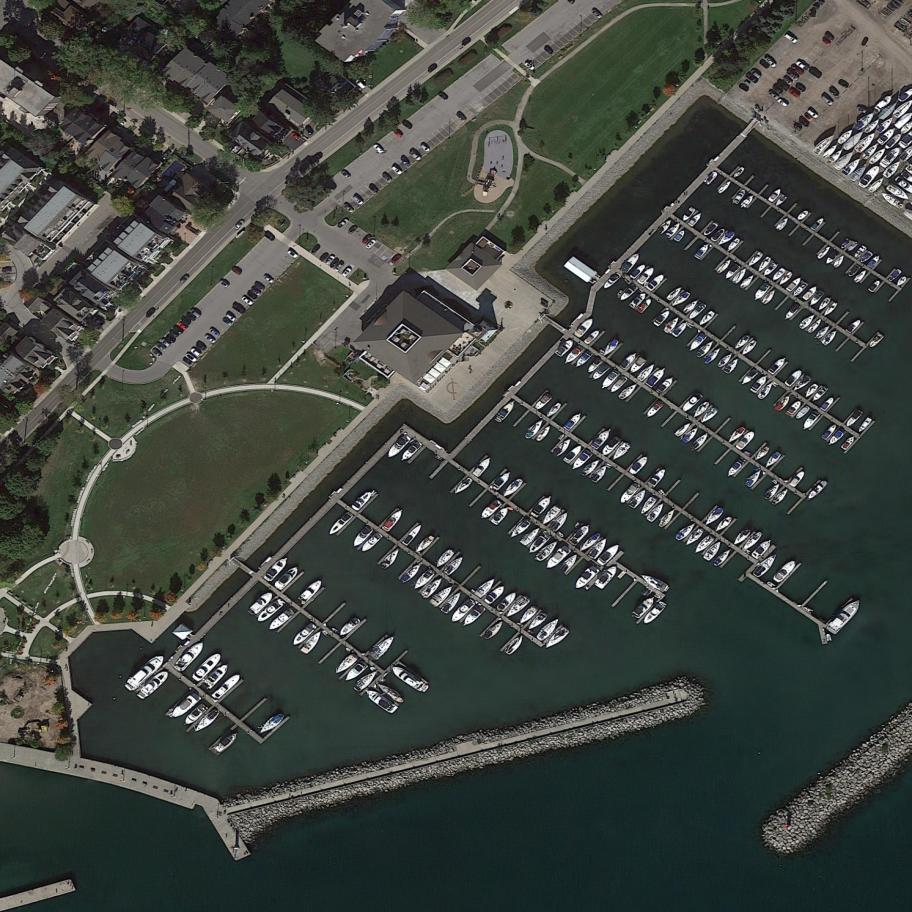ship: (121, 652, 167, 696), (131, 665, 175, 707), (823, 594, 865, 638), (169, 638, 207, 677), (390, 663, 431, 697), (189, 649, 224, 685), (169, 689, 204, 721), (366, 631, 398, 664), (211, 671, 244, 702), (364, 687, 399, 716), (271, 561, 302, 593), (254, 596, 287, 625), (447, 595, 478, 625), (255, 709, 286, 739), (295, 575, 325, 606), (571, 563, 601, 594), (542, 542, 572, 573), (267, 605, 299, 634), (326, 509, 355, 539), (533, 614, 562, 644), (262, 554, 291, 584), (193, 706, 223, 735), (245, 588, 275, 617), (351, 667, 380, 696), (386, 432, 414, 462), (375, 680, 408, 705), (639, 569, 672, 594), (505, 592, 533, 621), (211, 729, 240, 757), (332, 650, 361, 678), (289, 620, 318, 648), (202, 662, 230, 691), (641, 599, 669, 628), (751, 551, 779, 580), (459, 602, 487, 630), (182, 700, 210, 728), (335, 613, 363, 641), (595, 540, 622, 569), (771, 557, 798, 585), (299, 628, 325, 657), (594, 563, 620, 592), (410, 566, 437, 593), (543, 625, 570, 652), (565, 521, 592, 548), (526, 529, 553, 556), (810, 131, 837, 158), (804, 476, 830, 504), (568, 446, 594, 473), (477, 496, 504, 522), (499, 474, 526, 500), (631, 594, 657, 621), (534, 537, 560, 564), (398, 439, 424, 466), (380, 507, 405, 535), (341, 659, 369, 684), (440, 589, 465, 617), (493, 397, 518, 425), (359, 529, 384, 556), (419, 575, 444, 602), (428, 584, 455, 609), (529, 493, 554, 520), (618, 478, 642, 506), (586, 533, 610, 561), (398, 560, 424, 585), (482, 582, 508, 607), (627, 452, 652, 478), (441, 554, 467, 579), (840, 128, 865, 154), (561, 342, 586, 368), (572, 315, 597, 341), (351, 523, 375, 550), (495, 587, 519, 614), (858, 163, 882, 190), (853, 130, 877, 157), (701, 537, 724, 565), (525, 608, 550, 633), (481, 618, 506, 643), (473, 575, 498, 600), (518, 524, 543, 549), (507, 516, 532, 541), (433, 545, 457, 571), (521, 416, 545, 442), (540, 501, 564, 527), (413, 531, 437, 556), (561, 408, 585, 433), (548, 508, 572, 533), (878, 145, 902, 170), (401, 522, 424, 548), (645, 499, 668, 525), (600, 432, 623, 458), (589, 426, 612, 452), (609, 439, 633, 463), (561, 442, 585, 466), (578, 530, 602, 554), (691, 531, 715, 555), (378, 547, 401, 572), (517, 601, 540, 626), (489, 504, 512, 529), (750, 536, 773, 561), (645, 364, 668, 389), (599, 367, 622, 392), (734, 428, 757, 453), (799, 407, 822, 432), (879, 189, 905, 211), (686, 329, 708, 355), (884, 181, 911, 202), (351, 489, 374, 513), (578, 456, 602, 479), (550, 435, 573, 459), (680, 391, 704, 414), (554, 335, 577, 359), (698, 403, 721, 427), (620, 250, 642, 275), (832, 150, 855, 173), (712, 512, 735, 535), (703, 504, 726, 527), (791, 372, 814, 395), (589, 462, 611, 486), (471, 455, 493, 479), (673, 520, 697, 542), (647, 466, 669, 490), (557, 551, 579, 575), (533, 390, 555, 413), (881, 158, 903, 181), (635, 264, 657, 287), (645, 271, 667, 294), (712, 545, 734, 568), (683, 525, 705, 548), (688, 299, 710, 322), (725, 423, 747, 446), (844, 407, 866, 430), (504, 633, 525, 657), (628, 487, 649, 511), (751, 281, 772, 305), (725, 455, 746, 479), (627, 289, 649, 311), (770, 486, 792, 508), (656, 507, 677, 530), (636, 361, 657, 384), (573, 348, 594, 371), (749, 373, 770, 396), (818, 420, 839, 443), (638, 493, 658, 517), (452, 476, 474, 497), (491, 470, 512, 492), (878, 101, 899, 123), (853, 111, 875, 132), (796, 310, 817, 332), (601, 271, 623, 292), (608, 374, 630, 395), (627, 354, 648, 376), (618, 349, 639, 371), (783, 367, 804, 389), (739, 366, 760, 388), (762, 449, 783, 471), (744, 467, 764, 490), (601, 335, 620, 359), (873, 92, 894, 113), (859, 141, 880, 162), (628, 261, 649, 282), (741, 530, 762, 551), (702, 346, 723, 367), (696, 308, 717, 329), (842, 156, 862, 178), (732, 525, 752, 547), (652, 307, 672, 329), (661, 314, 681, 336), (768, 355, 788, 377), (696, 338, 716, 360), (690, 430, 710, 452), (788, 468, 808, 490), (757, 380, 776, 403), (543, 399, 563, 420), (876, 125, 896, 146), (867, 146, 887, 167), (645, 399, 665, 420), (655, 375, 675, 396), (740, 337, 760, 358), (715, 350, 735, 371), (773, 392, 793, 413), (691, 398, 710, 420), (692, 241, 712, 261), (835, 127, 855, 147), (618, 283, 638, 303), (619, 381, 639, 401), (827, 427, 847, 447), (807, 287, 826, 308), (784, 274, 803, 295), (850, 164, 869, 185), (591, 361, 610, 382), (763, 481, 782, 502), (801, 283, 820, 303), (737, 272, 756, 292), (682, 425, 701, 445), (884, 131, 903, 151), (876, 115, 895, 135), (868, 176, 887, 196), (681, 297, 701, 316), (674, 418, 693, 438), (845, 315, 864, 335), (821, 328, 840, 348), (670, 289, 691, 307), (723, 356, 741, 377), (855, 414, 873, 435), (746, 250, 765, 269), (823, 247, 842, 266), (583, 328, 602, 347), (733, 333, 752, 352), (815, 322, 834, 341), (752, 444, 771, 463), (535, 424, 553, 444), (723, 262, 741, 282), (782, 302, 800, 322), (636, 296, 654, 316), (812, 383, 830, 403), (702, 220, 721, 238), (716, 229, 735, 247), (664, 220, 682, 239), (679, 205, 697, 224), (770, 265, 788, 284), (664, 285, 683, 303), (585, 356, 603, 375), (867, 331, 885, 350), (732, 266, 749, 286), (761, 288, 778, 308), (806, 316, 823, 336), (715, 258, 733, 276), (709, 226, 727, 244), (863, 117, 881, 135), (826, 148, 844, 166), (821, 300, 839, 318), (792, 279, 809, 298), (852, 267, 869, 286), (822, 142, 839, 161), (840, 433, 857, 452), (819, 394, 836, 413), (787, 398, 804, 417), (803, 380, 819, 400), (815, 244, 832, 262), (687, 210, 704, 228), (702, 169, 719, 187), (739, 192, 756, 210), (762, 260, 779, 278), (774, 215, 791, 233), (809, 215, 826, 233), (672, 321, 689, 339), (725, 235, 741, 254), (732, 187, 748, 206), (816, 295, 832, 314), (716, 179, 733, 196), (795, 403, 812, 420), (866, 252, 882, 270), (767, 186, 783, 204), (831, 254, 847, 271), (778, 270, 794, 287), (756, 256, 771, 274), (853, 243, 868, 261), (773, 193, 788, 210), (657, 219, 672, 236), (867, 278, 882, 295), (847, 262, 862, 279), (795, 206, 810, 222), (731, 166, 746, 181), (888, 267, 902, 283), (672, 228, 686, 243), (895, 274, 909, 289), (839, 237, 852, 251), (846, 240, 859, 253), (803, 605, 814, 615), (767, 580, 776, 589), (826, 633, 833, 644), (658, 489, 666, 498)
small-vehicle: (763, 52, 779, 70), (782, 31, 799, 46), (785, 68, 801, 82), (808, 66, 824, 80), (309, 151, 325, 165), (232, 302, 247, 316), (408, 148, 422, 163), (790, 63, 806, 76), (797, 114, 811, 128), (820, 93, 834, 107), (459, 35, 473, 49), (399, 152, 412, 167), (796, 59, 810, 72), (777, 79, 791, 92), (806, 107, 820, 120), (543, 43, 556, 57), (590, 7, 604, 20), (204, 333, 217, 346), (776, 97, 789, 110), (789, 87, 802, 100), (337, 217, 350, 230), (372, 142, 385, 155), (455, 110, 468, 123), (354, 78, 367, 91), (241, 295, 255, 307), (361, 232, 373, 246), (745, 72, 759, 84), (221, 316, 234, 328), (178, 274, 191, 286), (234, 218, 246, 231), (341, 266, 353, 279), (771, 84, 784, 96), (750, 68, 763, 80), (347, 223, 359, 236), (342, 202, 355, 214), (340, 169, 352, 182), (290, 131, 303, 143), (427, 62, 439, 75), (151, 347, 163, 359), (190, 347, 202, 359), (795, 82, 807, 94), (828, 85, 840, 97), (353, 194, 365, 206), (391, 164, 403, 176), (402, 119, 414, 131), (437, 90, 449, 102), (366, 238, 377, 251), (325, 253, 336, 266), (185, 352, 198, 363), (172, 324, 185, 335), (838, 78, 851, 89), (738, 82, 751, 93), (758, 59, 771, 70), (382, 172, 393, 185), (823, 32, 836, 43), (190, 308, 202, 319), (226, 312, 238, 323), (247, 290, 259, 301), (287, 249, 299, 260), (334, 261, 345, 273), (185, 311, 197, 322), (209, 327, 221, 338), (155, 341, 167, 352), (160, 338, 172, 349), (196, 340, 208, 351), (165, 332, 177, 343), (311, 243, 322, 255), (391, 253, 402, 265), (768, 89, 780, 100), (782, 75, 794, 86), (368, 183, 380, 194), (419, 142, 431, 153), (524, 61, 536, 72), (263, 232, 276, 242), (820, 37, 833, 47), (254, 281, 265, 292), (218, 278, 229, 289), (329, 257, 340, 268), (319, 251, 330, 262), (803, 111, 814, 122), (392, 127, 403, 138), (116, 120, 127, 131), (251, 287, 263, 297), (305, 124, 315, 136), (231, 266, 242, 276), (263, 274, 274, 284), (181, 316, 192, 326), (169, 328, 180, 338), (178, 321, 188, 331), (792, 123, 803, 132), (183, 357, 193, 366), (861, 36, 869, 47)
